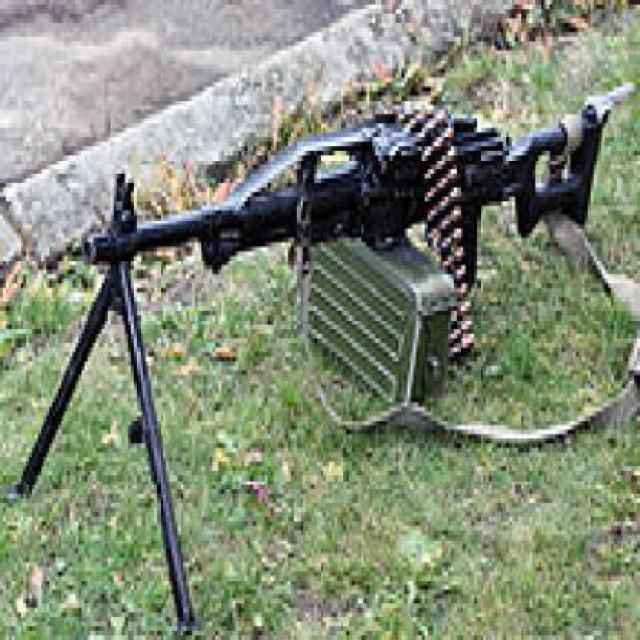weapon: (5, 84, 606, 627)
